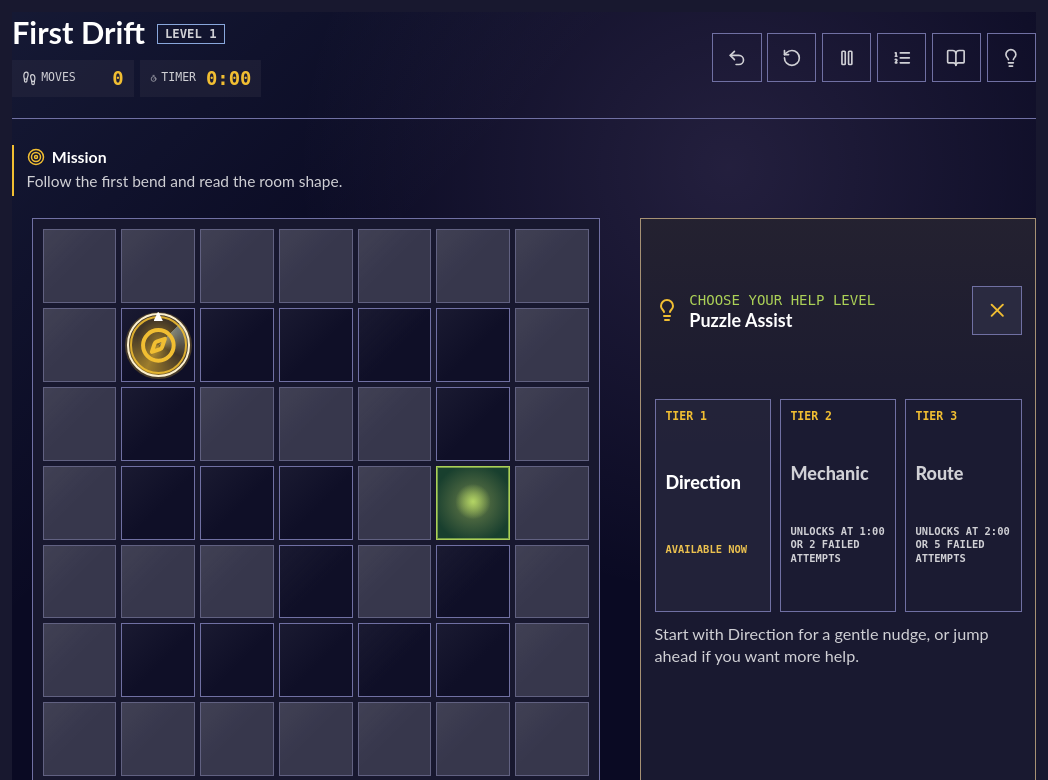
GameBoard › renders tiered puzzle assist choices when the hint panel is open
Expected: the text "choose your help level" is shown, left=689, top=292, right=875, bottom=308
Expected: the button "Tier 2 Mechanic Unlocks at 1:00 or 2 failed attempts" is disabled, left=780, top=399, right=896, bottom=612
What coordinates should you click on to do the following:
click the button "Tier 1 Direction Available now"
I would click on:
 (713, 506)
Its box is left=654, top=399, right=771, bottom=612.
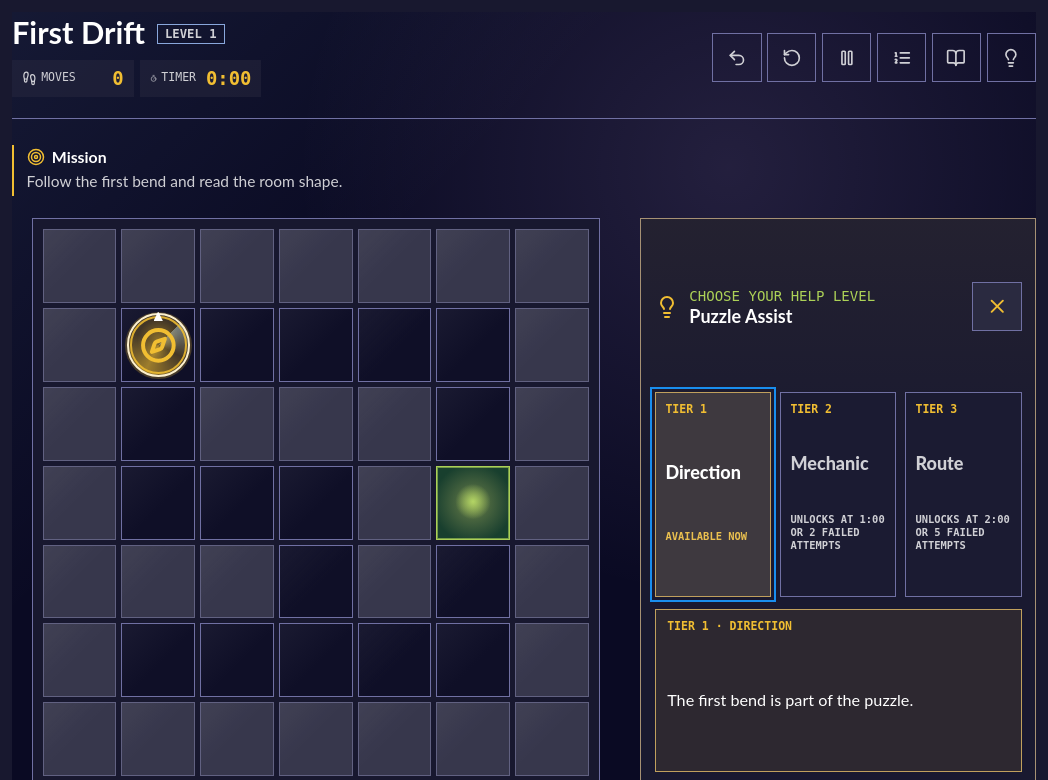
Result: the text "The first bend is part of the puzzle." is shown at left=667, top=690, right=913, bottom=709
